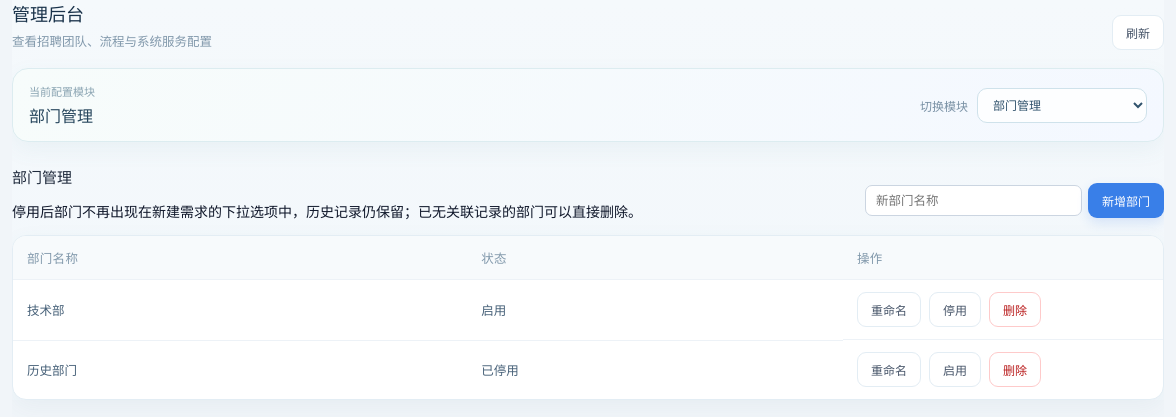
Test: 管理后台页面 › 部门名称默认只读，需点「重命名」才可编辑
Expected: the cell "技术部" is shown, 13,280 -> 467,340
Click the button "重命名" in the row of "技术部": [889, 310] box 857,292 -> 921,327
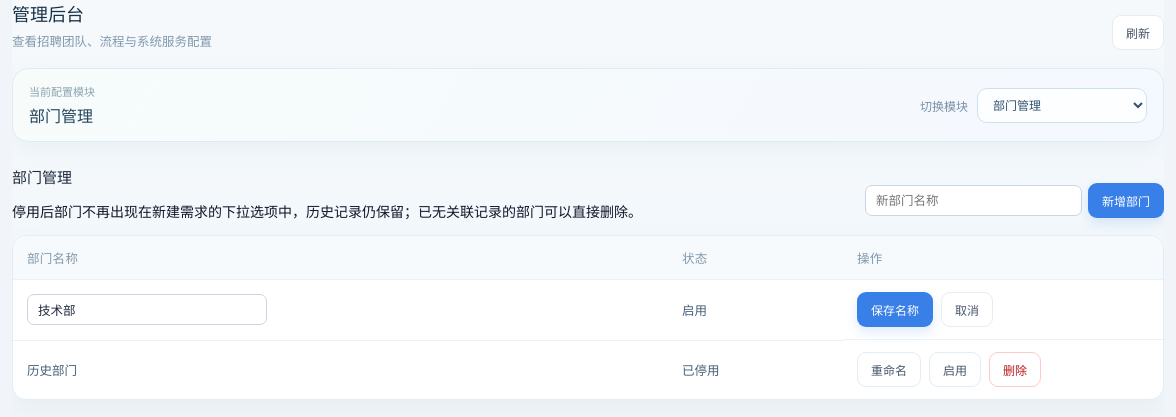
Expected: the field named "部门新名称" holds "技术部"
Replace the text in the field named "部门新名称" with "研发部": [147, 310] box 27,294 -> 267,325
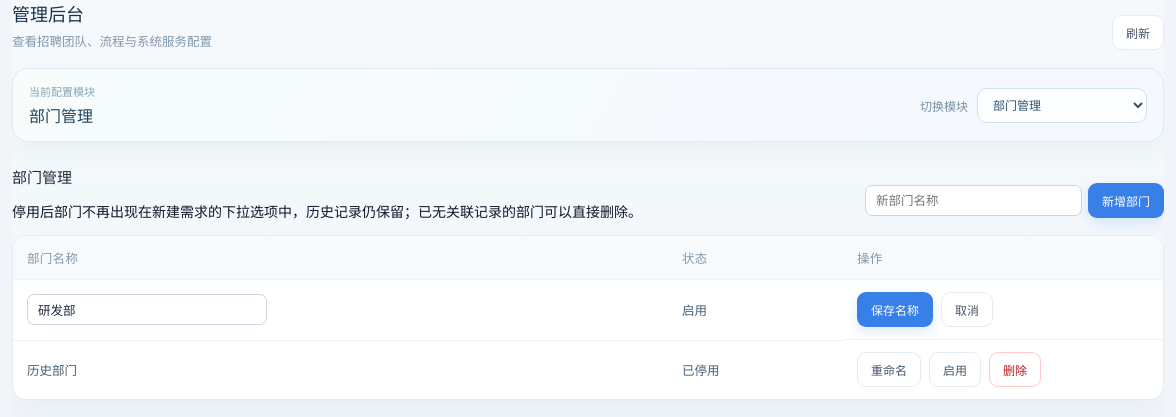
Click the button "保存名称": [895, 310] box 857,292 -> 933,327
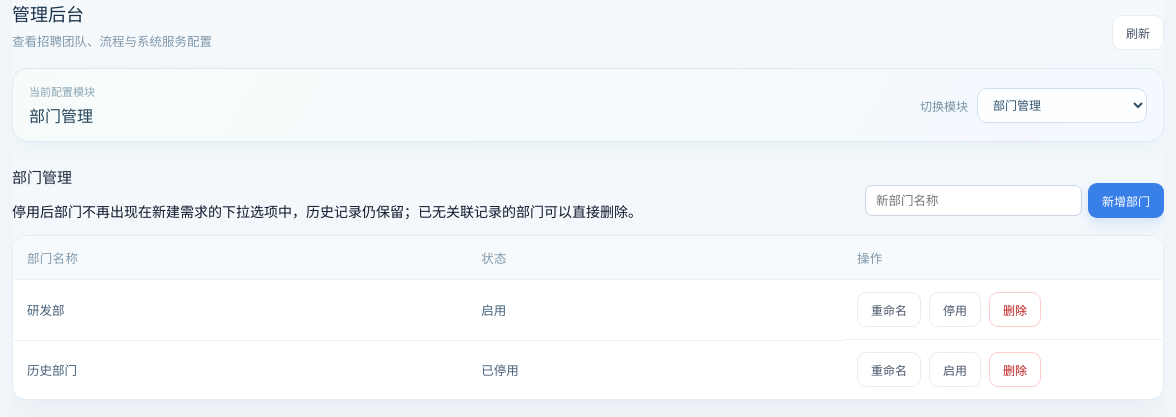
Expected: the cell "研发部" is shown, 13,280 -> 467,340
